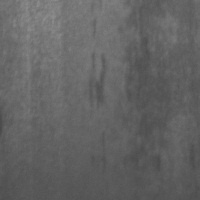inclusion: (126, 5, 176, 180), (82, 46, 113, 117), (93, 127, 114, 180)
